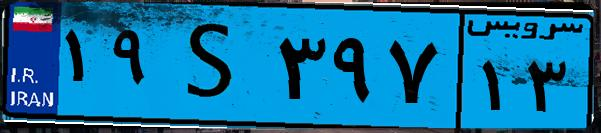1: (57, 26, 110, 100), (475, 38, 525, 113)
3: (270, 28, 330, 110), (525, 38, 570, 115)
7: (385, 28, 445, 110)
9: (330, 28, 385, 110), (110, 28, 158, 98)
S: (158, 12, 270, 120)
